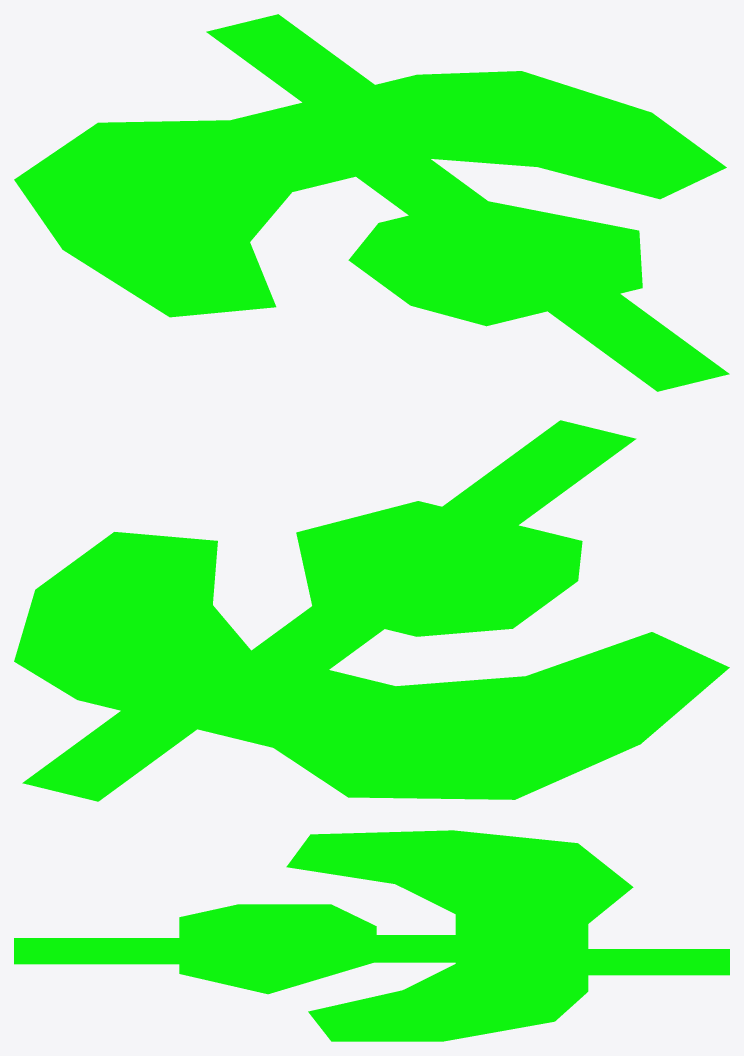
The model's file is s03a_ic3-floor.glb.
3 views of the same model, one above another, from view 1: azimuth 30°, elevation 25°; view 2: azimuth 150°, elevation 25°; view 3: azimuth 270°, elevation 25° (orthographic). The views are drawn at different scales.
Visible parts, largest first — view 1: collision_floor-colonly; view 2: collision_floor-colonly; view 3: collision_floor-colonly.
Part boxes in pixels (x1=…): collision_floor-colonly: x1=14, y1=14, x2=729, y2=391; collision_floor-colonly: x1=14, y1=420, x2=729, y2=801; collision_floor-colonly: x1=14, y1=830, x2=729, y2=1041.
Bounding box in the file's own units: 48.18 × 0.1992 × 69.
